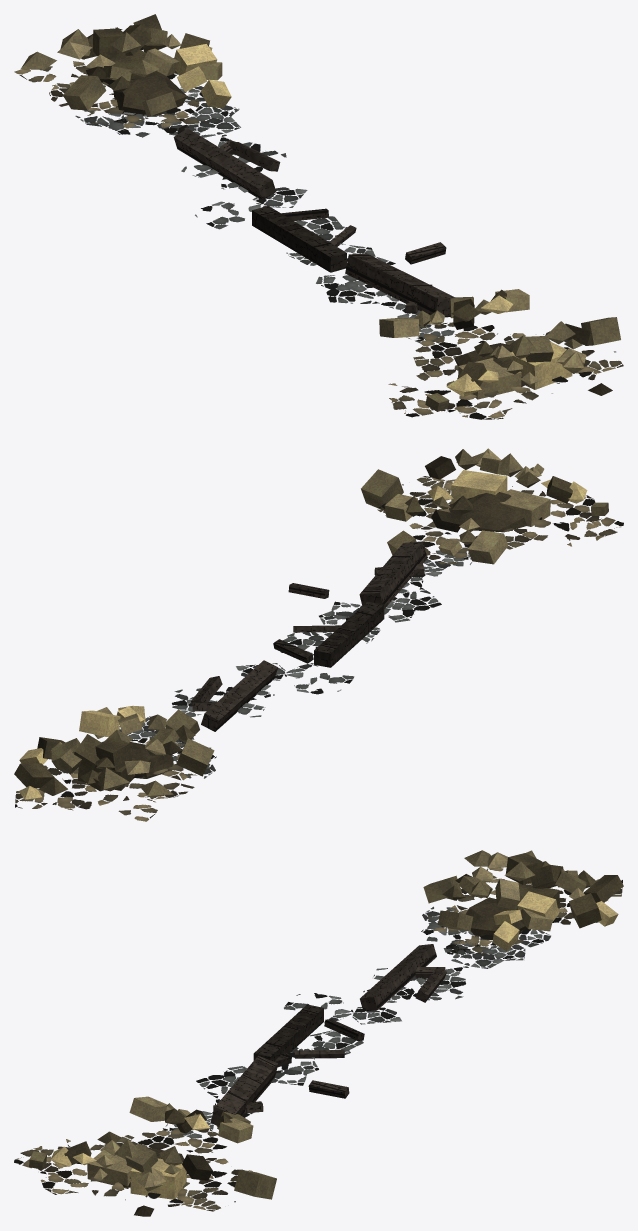
File: CreFence03a.glb
3 renders of one model, top to bottom at view 1: azimuth 30°, elevation 25°; view 2: azimuth 150°, elevation 25°; view 3: azimuth 330°, elevation 25°, orthographic. The views are drawn at different scales.
Parts seen in each view (by area): view 1: fr_st; view 2: fr_st; view 3: fr_st.
Boxes of the visible parts, x1=… form: fr_st: x1=14, y1=14, x2=623, y2=419; fr_st: x1=14, y1=448, x2=623, y2=821; fr_st: x1=14, y1=850, x2=623, y2=1216.
Bounding box in the file's own units: 1.43 × 0.3411 × 5.1.
4 materials, 4 textured.
